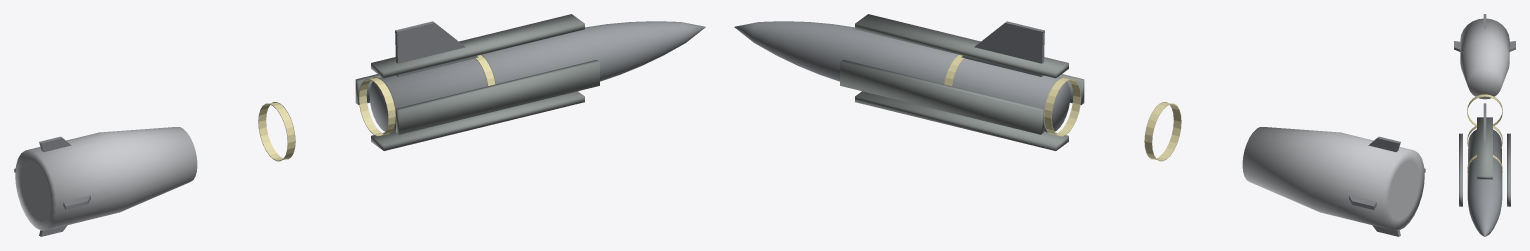
Rendered from RU_ASM_Oniks_LOD1.fbx.
3 renders of one model, left to right at view 1: azimuth 30°, elevation 25°; view 2: azimuth 150°, elevation 25°; view 3: azimuth 270°, elevation 25°, orthographic. The views are drawn at different scales.
Visible parts, largest first — view 1: WPN_RU_ASM_Oniks_LOD1_Tail, WPN_RU_ASM_Oniks_LOD1_Nose, WPN_RU_ASM_Oniks_LOD1_Body, WPN_RU_ASM_Oniks_LOD1_Marking, WPN_RU_ASM_Oniks_LOD1_Wings, WPN_RU_ASM_Oniks_LOD1_Fins; view 2: WPN_RU_ASM_Oniks_LOD1_Tail, WPN_RU_ASM_Oniks_LOD1_Nose, WPN_RU_ASM_Oniks_LOD1_Body, WPN_RU_ASM_Oniks_LOD1_Marking, WPN_RU_ASM_Oniks_LOD1_Wings, WPN_RU_ASM_Oniks_LOD1_Fins; view 3: WPN_RU_ASM_Oniks_LOD1_Tail, WPN_RU_ASM_Oniks_LOD1_Body, WPN_RU_ASM_Oniks_LOD1_Nose, WPN_RU_ASM_Oniks_LOD1_Marking, WPN_RU_ASM_Oniks_LOD1_Fins, WPN_RU_ASM_Oniks_LOD1_Wings.
Part boxes in pixels (x1=…): WPN_RU_ASM_Oniks_LOD1_Tail: x1=15, y1=127, x2=197, y2=230; WPN_RU_ASM_Oniks_LOD1_Nose: x1=355, y1=14, x2=599, y2=150; WPN_RU_ASM_Oniks_LOD1_Body: x1=369, y1=21, x2=705, y2=132; WPN_RU_ASM_Oniks_LOD1_Marking: x1=258, y1=54, x2=495, y2=161; WPN_RU_ASM_Oniks_LOD1_Wings: x1=395, y1=21, x2=478, y2=76; WPN_RU_ASM_Oniks_LOD1_Fins: x1=14, y1=136, x2=90, y2=236; WPN_RU_ASM_Oniks_LOD1_Tail: x1=1242, y1=127, x2=1424, y2=230; WPN_RU_ASM_Oniks_LOD1_Nose: x1=840, y1=14, x2=1084, y2=150; WPN_RU_ASM_Oniks_LOD1_Body: x1=734, y1=21, x2=1070, y2=132; WPN_RU_ASM_Oniks_LOD1_Marking: x1=944, y1=54, x2=1181, y2=161; WPN_RU_ASM_Oniks_LOD1_Wings: x1=961, y1=21, x2=1044, y2=76; WPN_RU_ASM_Oniks_LOD1_Fins: x1=1349, y1=136, x2=1425, y2=236; WPN_RU_ASM_Oniks_LOD1_Tail: x1=1460, y1=18, x2=1509, y2=99; WPN_RU_ASM_Oniks_LOD1_Body: x1=1467, y1=129, x2=1502, y2=236; WPN_RU_ASM_Oniks_LOD1_Nose: x1=1459, y1=117, x2=1510, y2=206; WPN_RU_ASM_Oniks_LOD1_Marking: x1=1467, y1=94, x2=1502, y2=173; WPN_RU_ASM_Oniks_LOD1_Fins: x1=1454, y1=14, x2=1515, y2=51; WPN_RU_ASM_Oniks_LOD1_Wings: x1=1483, y1=103, x2=1486, y2=142.
Size of the model in its own units: 8.9 by 1.19 by 1.5.
